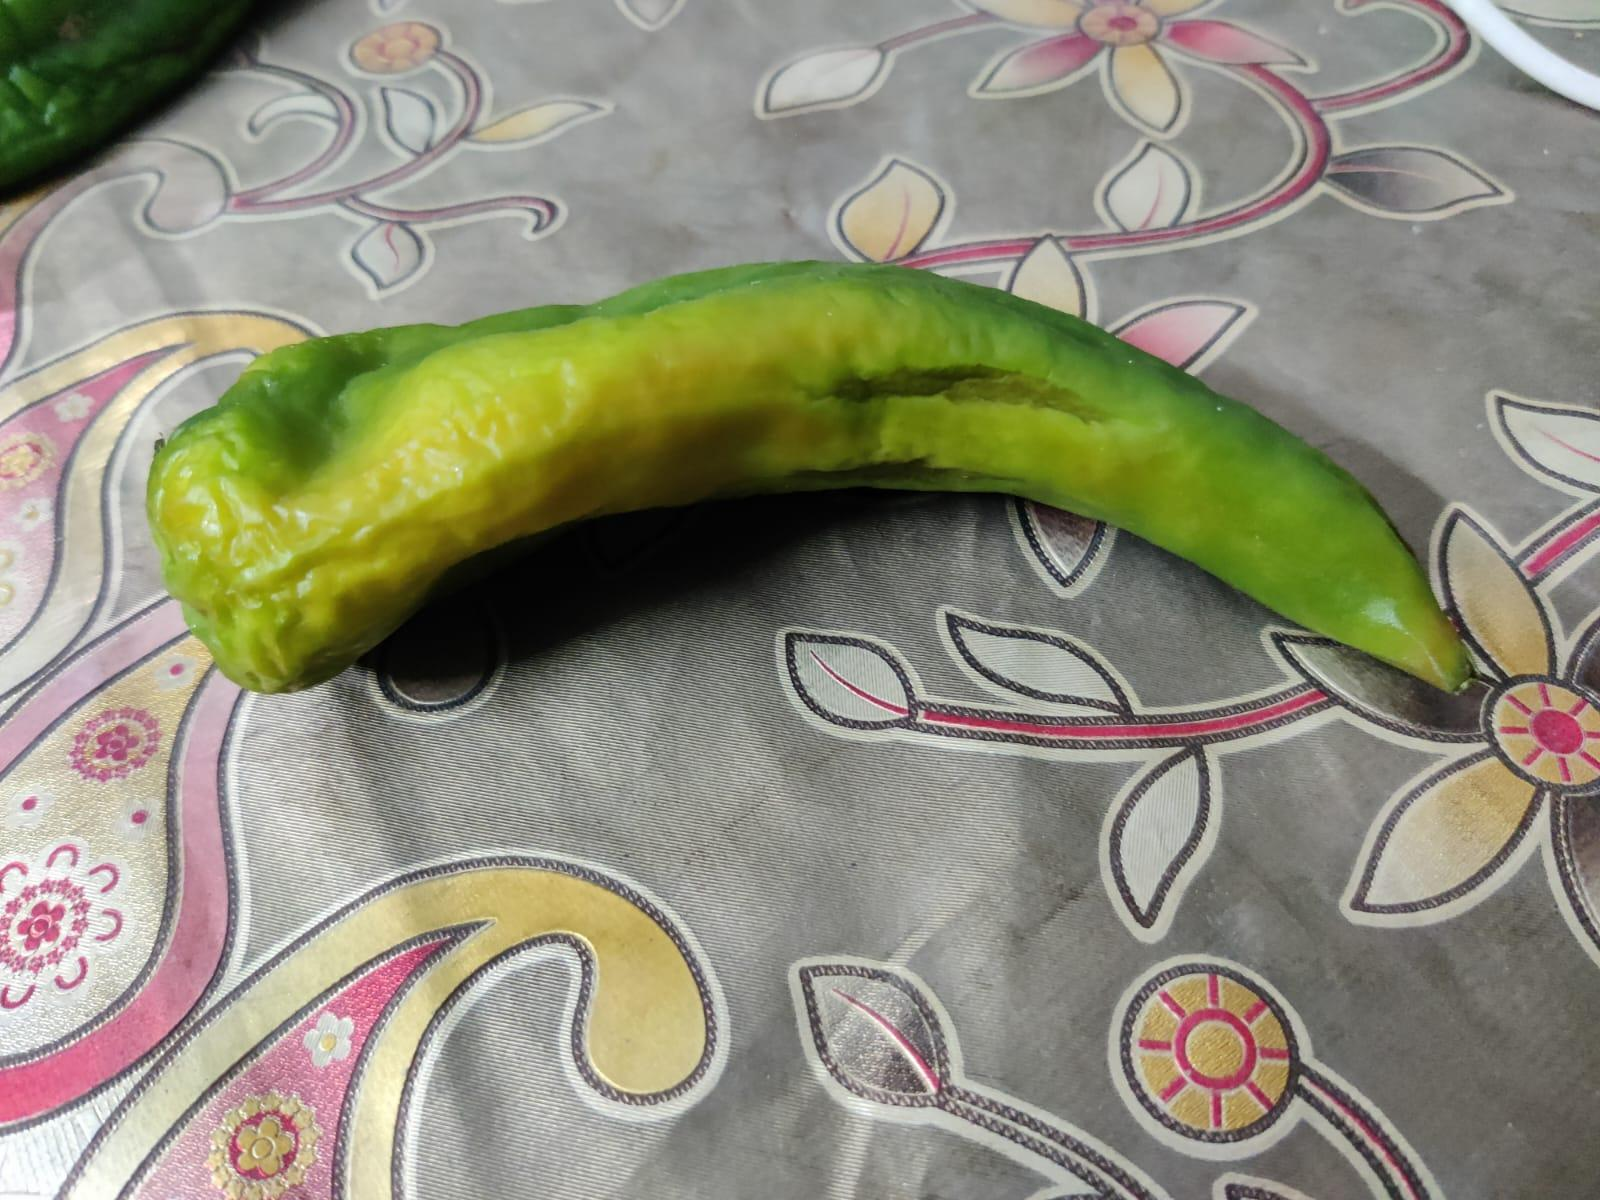non-mango: (146, 251, 1480, 721)
